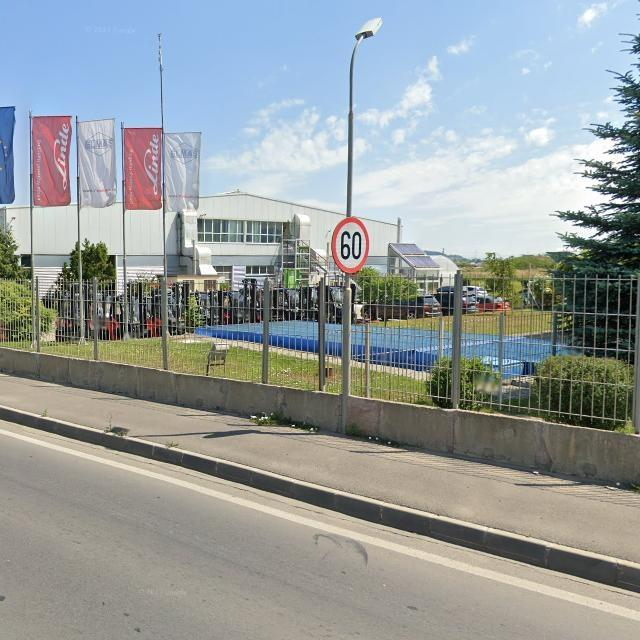forb_speed_over_60: (331, 217, 370, 275)
